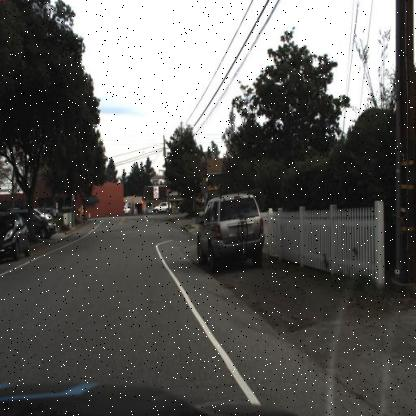car: (194, 189, 266, 274), (0, 210, 31, 270), (31, 209, 53, 240), (154, 202, 173, 214)
